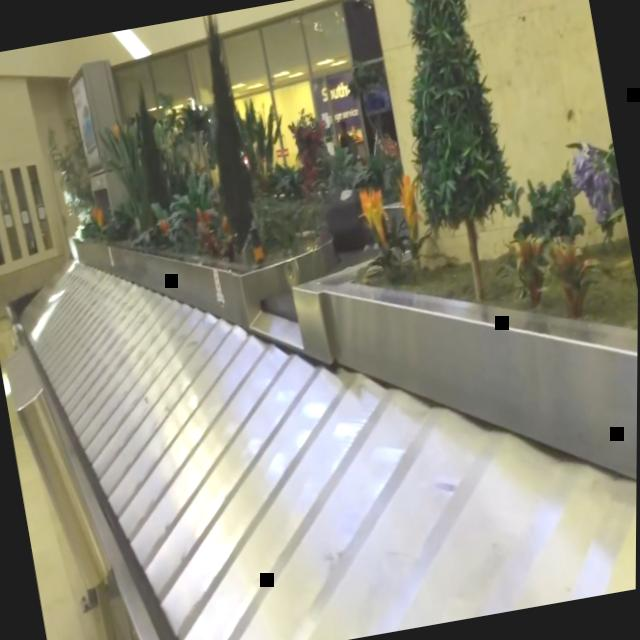luggage: (311, 182, 371, 252)
